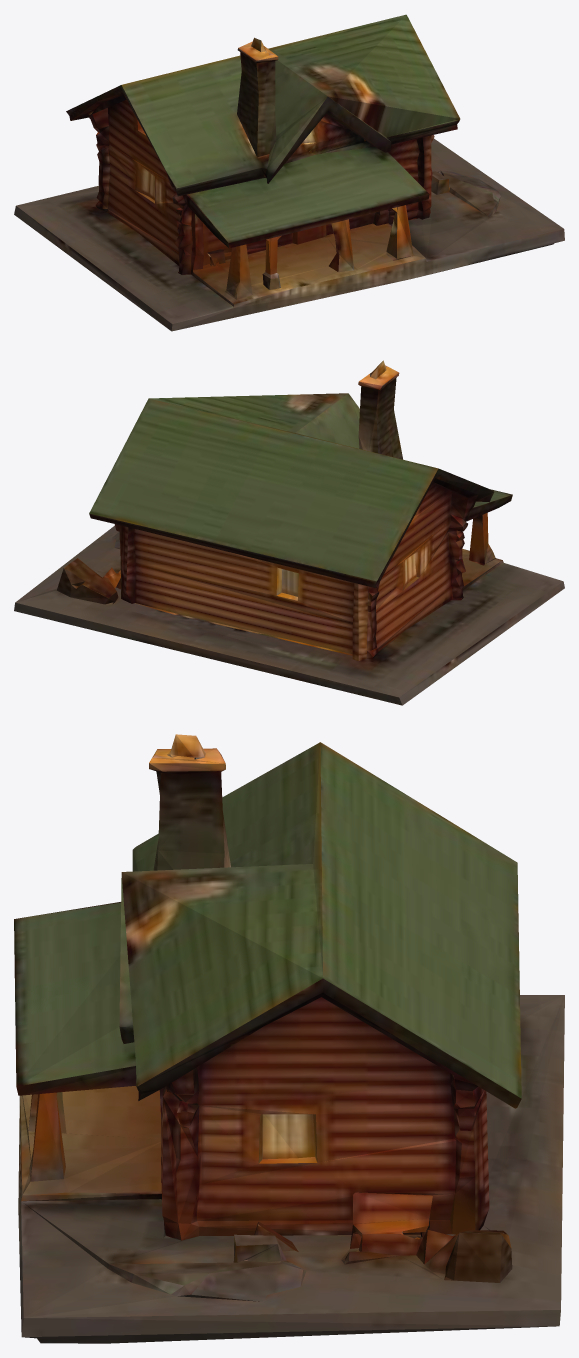
The model's file is log_ranger_station.glb.
3 views of the same model, one above another, from view 1: azimuth 30°, elevation 25°; view 2: azimuth 150°, elevation 25°; view 3: azimuth 270°, elevation 25° (orthographic). The views are drawn at different scales.
Parts seen in each view (by area): view 1: textured; view 2: textured; view 3: textured.
Part boxes in pixels (x1,y1,x2,y2): textured: (14,14,564,331); textured: (14,360,564,705); textured: (14,734,564,1343).
Size of the model in its own units: 1.92 by 1.1 by 1.37.
1 material, 1 textured.
